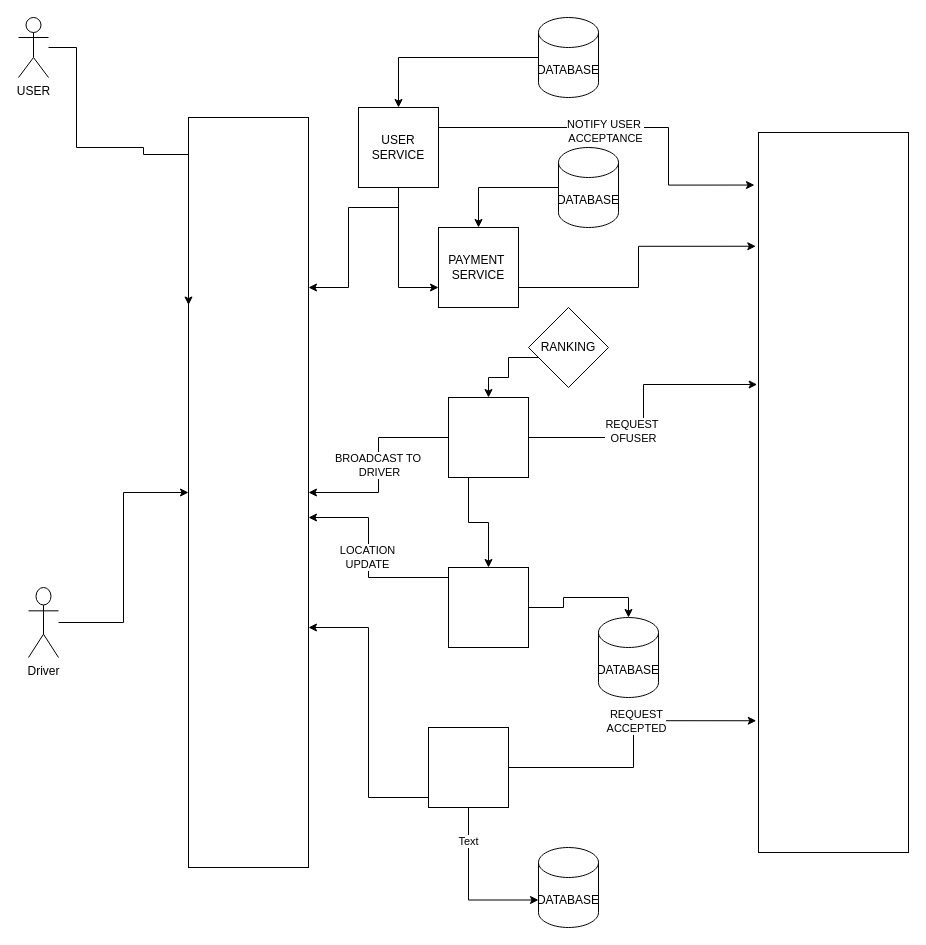
This 926x945 diagram has some shape labels left out. The centre of each missing label's shape, as x and y in pixels:
"API GATEWAY" belongs at [248,492].
"BOOKING SERVICE" belongs at [488,437].
"DRIVER SERVICE" belongs at [468,767].
"LOCATION SERVICE" belongs at [488,607].
"MESSAGING QUEUE" belongs at [833,492].
